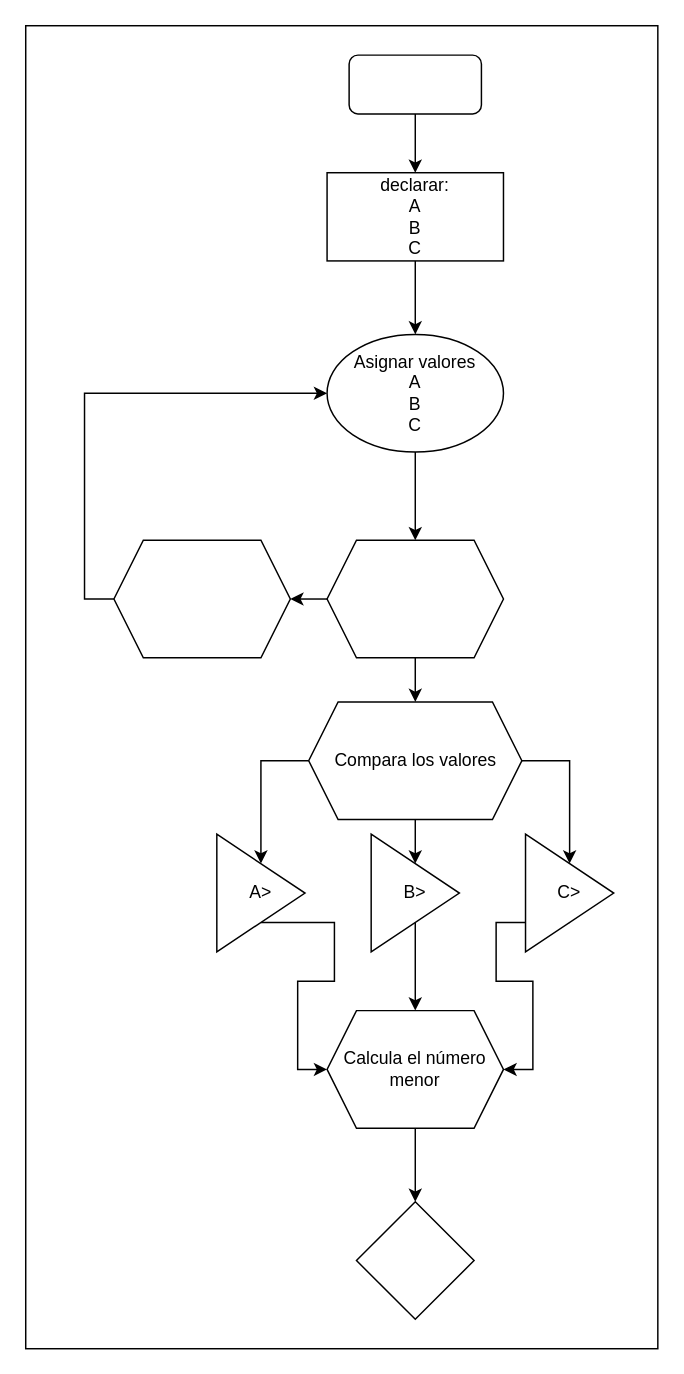
The diagram is 684 pixels wide and 1374 high, and some of its shapes have lost their labels. Here are the shapes that lost their labels. From the top down, the centre of each, then its label:
the point at 414,84: Inicio
the point at 201,598: Algún dato igual
the point at 414,598: Leer datos
the point at 414,1259: FIN
